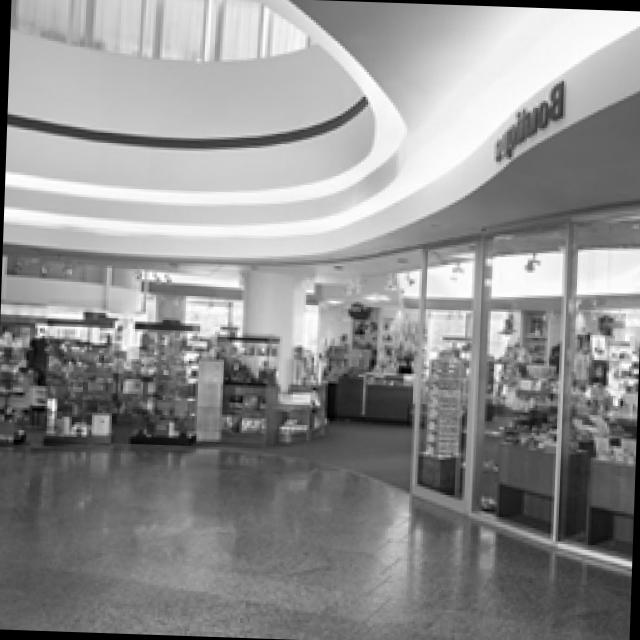ceiling beam: (5, 0, 640, 271)
floor -X: (0, 411, 630, 640)
shop window: (1, 195, 640, 571)
wall clock: (13, 0, 315, 61)
